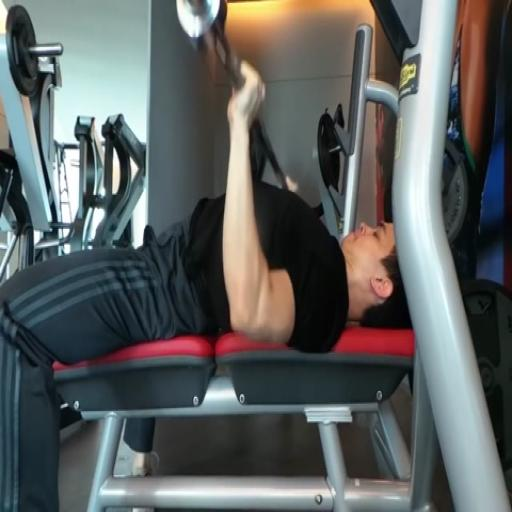exercise: (0, 0, 412, 511)
